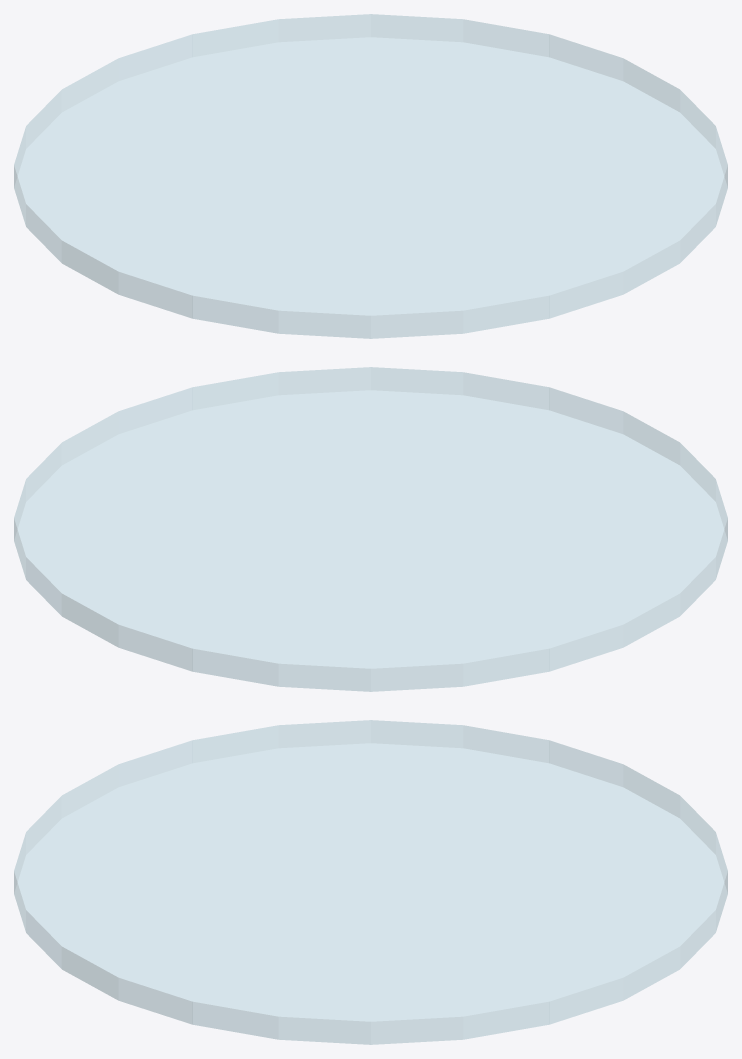
Rendered from 유리커버.glb.
The picture shows the model from 3 angles, top to bottom: view 1: azimuth 30°, elevation 25°; view 2: azimuth 150°, elevation 25°; view 3: azimuth 270°, elevation 25°; orthographic projection.
Parts seen in each view (by area): view 1: Cylinder; view 2: Cylinder; view 3: Cylinder.
Part boxes in pixels (x1,y1,x2,y2): Cylinder: (14,14,727,338); Cylinder: (14,367,727,691); Cylinder: (14,720,727,1044).
Size of the model in its own units: 1.4 by 0.05 by 1.4.
